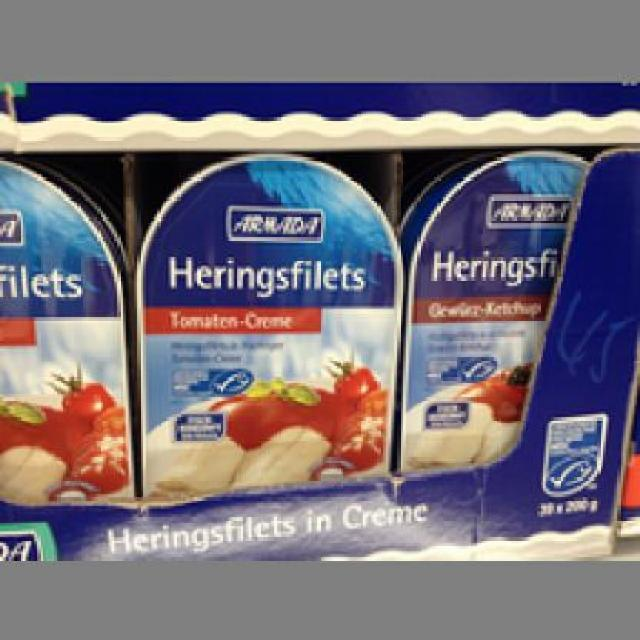Fish: (132, 152, 398, 494), (397, 152, 583, 478), (0, 154, 135, 500)
